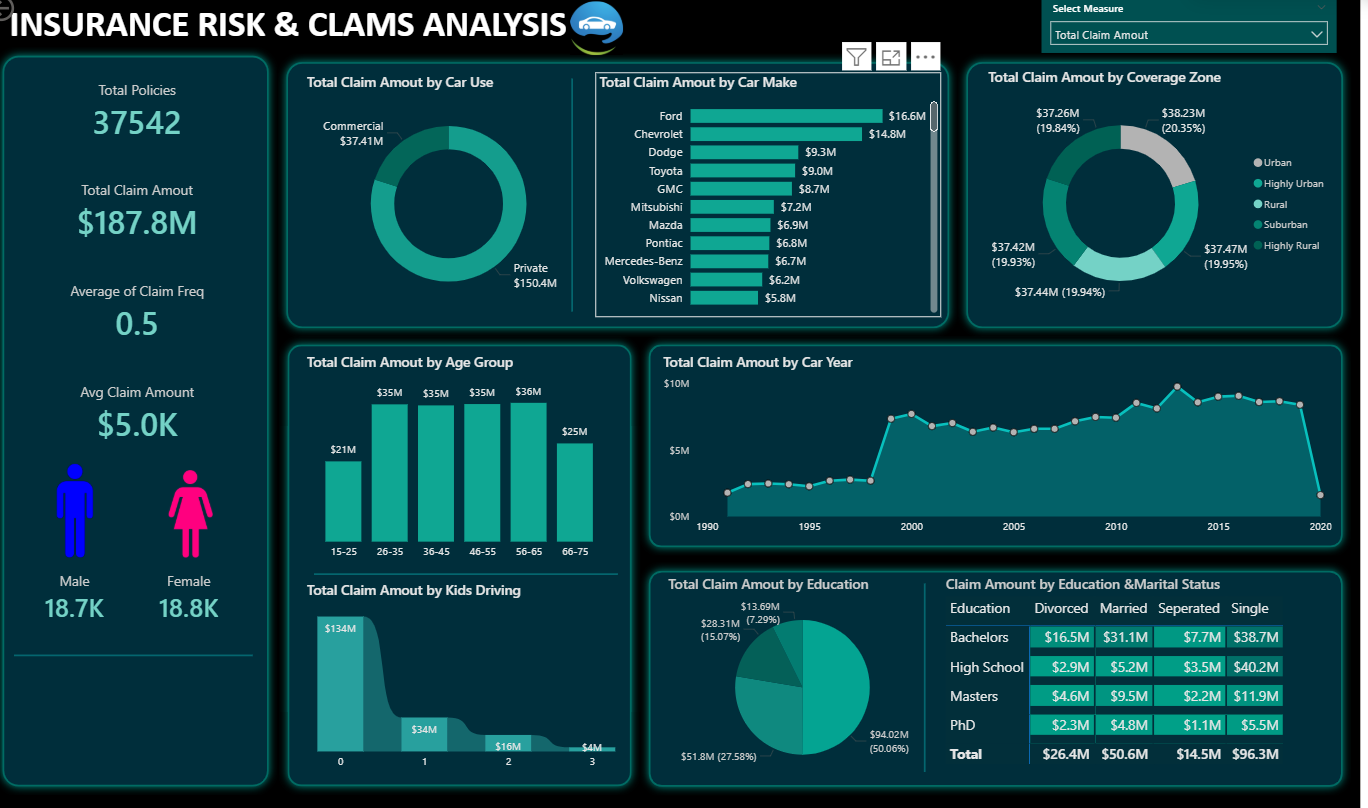

What the dashboard file says about the page in this screenshot:
{"tool":"powerbi","page":{"name":"Page 1","canvas":[1600,950],"ordinal":0},"visuals":[{"type":"textbox","box":[24,6.9,660.4,65.2],"z":0},{"type":"shape","box":[12,65.2,329.3,869.6],"z":1000},{"type":"actionButton","box":[0,0,100,40],"z":2000},{"type":"cardVisual","fields":{"Data":["insurance_data_car.Total Policies","insurance_data_car.Total Claim Amout","Avg(insurance_data_car.Claim Freq)","insurance_data_car.Avg Claim Amount"]},"box":[42.9,85.8,269.3,459.7],"z":3000},{"type":"cardVisual","fields":{"Data":["insurance_data_car.Male Count","insurance_data_car.Female Count"]},"box":[42.9,650.1,257.3,109.8],"z":4000},{"type":"image","box":[34.3,545.5,142.4,118.4],"z":5000},{"type":"image","box":[171.5,552.3,137.2,111.5],"z":6000},{"type":"slicer","fields":{"Values":["Select Measure.Select Measure"]},"box":[1229.8,6.9,343.1,65.2],"z":7000},{"type":"shape","box":[341.3,72,790.7,329.3],"z":8000},{"type":"donutChart","fields":{"Y":["insurance_data_car.Total Claim Amout"],"Category":["insurance_data_car.Car Use"]},"box":[370.5,94.3,339.6,284.7],"z":9000},{"type":"clusteredBarChart","fields":{"Y":["insurance_data_car.Total Claim Amout"],"Category":["insurance_data_car.Car Make"]},"box":[710.1,94.3,403.1,284.7],"z":10000},{"type":"shape","box":[1132.1,72,458,329.3],"z":11000},{"type":"donutChart","fields":{"Y":["insurance_data_car.Total Claim Amout"],"Category":["insurance_data_car.Coverage Zone"]},"box":[1163,89.2,409.9,295],"z":12000},{"type":"shape","box":[343.1,401.4,420,533.4],"z":13000},{"type":"clusteredColumnChart","fields":{"Y":["insurance_data_car.Total Claim Amout"],"Category":["insurance_data_car.Age Group"]},"box":[370.5,420.2,365.4,250.4],"z":14000},{"type":"ribbonChart","fields":{"Y":["insurance_data_car.Total Claim Amout"],"Category":["insurance_data_car.Kids Driving"]},"box":[370.5,684.4,380.8,229.8],"z":15000},{"type":"shape","box":[763.3,401.4,826.8,255.6],"z":16000},{"type":"areaChart","fields":{"Y":["insurance_data_car.Total Claim Amout"],"Category":["insurance_data_car.Car Year"]},"box":[785.6,420.2,787.3,221.3],"z":17000},{"type":"shape","box":[763.3,663.8,826.8,271],"z":17001},{"type":"pieChart","fields":{"Category":["insurance_data_car.Education"],"Y":["insurance_data_car.Total Claim Amout"]},"box":[790.7,677.5,322.5,243.6],"z":17002},{"type":"pivotTable","title":"Claim Amount by Education &Marital Status","fields":{"Rows":["insurance_data_car.Education"],"Columns":["insurance_data_car.Marital Status"],"Values":["insurance_data_car.Total Claim Amout"]},"box":[1113.2,677.5,447.7,236.7],"z":17003},{"type":"shape","box":[660.4,101.2,48,271],"z":17004},{"type":"shape","box":[1073.8,689.5,39.5,219.6],"z":17005},{"type":"shape","box":[384.2,653.5,353.3,48],"z":17006},{"type":"shape","box":[34.3,747.9,277.9,48],"z":17007},{"type":"image","box":[660.4,6.9,104.6,72],"z":17009}]}

Visuals, with their boxes in screenshot pixels (x1, y1, x2, y2), scaled from the page's 1600x950 canvas onto the 1368x808 screenshot:
textbox: <region>21, 6, 585, 61</region>
shape: <region>10, 55, 292, 795</region>
actionButton: <region>0, 0, 86, 34</region>
cardVisual - insurance_data_car.Total Policies x insurance_data_car.Total Claim Amout: <region>37, 73, 267, 464</region>
cardVisual - insurance_data_car.Male Count x insurance_data_car.Female Count: <region>37, 553, 257, 646</region>
image: <region>29, 464, 151, 565</region>
image: <region>147, 470, 264, 565</region>
slicer - Select Measure.Select Measure: <region>1051, 6, 1345, 61</region>
shape: <region>292, 61, 968, 341</region>
donutChart - insurance_data_car.Total Claim Amout x insurance_data_car.Car Use: <region>317, 80, 607, 322</region>
clusteredBarChart - insurance_data_car.Total Claim Amout x insurance_data_car.Car Make: <region>607, 80, 952, 322</region>
shape: <region>968, 61, 1360, 341</region>
donutChart - insurance_data_car.Total Claim Amout x insurance_data_car.Coverage Zone: <region>994, 76, 1345, 327</region>
shape: <region>293, 341, 652, 795</region>
clusteredColumnChart - insurance_data_car.Total Claim Amout x insurance_data_car.Age Group: <region>317, 357, 629, 570</region>
ribbonChart - insurance_data_car.Total Claim Amout x insurance_data_car.Kids Driving: <region>317, 582, 642, 778</region>
shape: <region>653, 341, 1360, 559</region>
areaChart - insurance_data_car.Total Claim Amout x insurance_data_car.Car Year: <region>672, 357, 1345, 546</region>
shape: <region>653, 565, 1360, 795</region>
pieChart - insurance_data_car.Education x insurance_data_car.Total Claim Amout: <region>676, 576, 952, 783</region>
"Claim Amount by Education &Marital Status" pivotTable: <region>952, 576, 1335, 778</region>
shape: <region>565, 86, 606, 317</region>
shape: <region>918, 586, 952, 773</region>
shape: <region>328, 556, 631, 597</region>
shape: <region>29, 636, 267, 677</region>
image: <region>565, 6, 654, 67</region>
